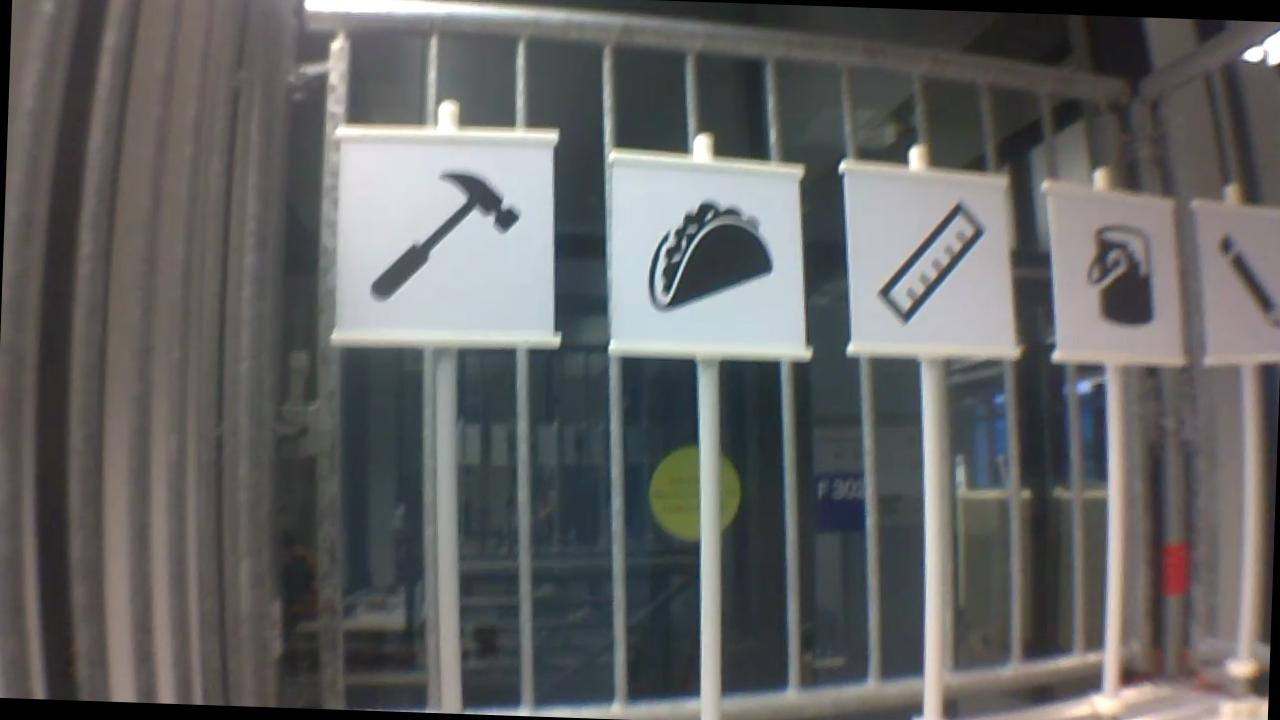bucket: (1078, 218, 1162, 333)
hammer: (364, 164, 530, 310)
pencil: (1208, 226, 1280, 334)
ruler: (867, 188, 992, 331)
taco: (642, 188, 783, 317)
